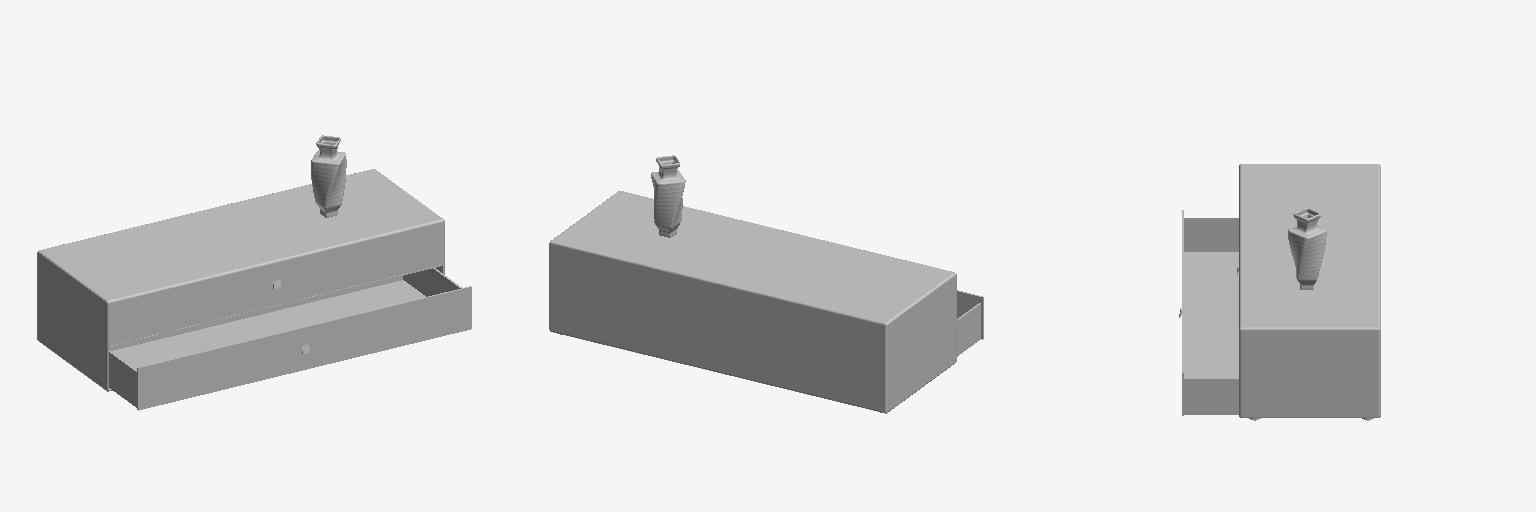
Rendered from Dresser.obj.
3 renders of one model, left to right at view 1: azimuth 30°, elevation 25°; view 2: azimuth 150°, elevation 25°; view 3: azimuth 270°, elevation 25°, orthographic.
Visible parts, largest first — view 1: Body1, Face, Face1, Body, Vase; view 2: Body1, Vase, Body, Face; view 3: Body1, Body, Vase.
Part boxes in pixels (bbox=[...]): Body1: bbox=[37, 169, 444, 391]; Face: bbox=[137, 286, 471, 410]; Face1: bbox=[109, 222, 442, 345]; Body: bbox=[109, 268, 461, 407]; Vase: bbox=[311, 135, 346, 217]; Body1: bbox=[549, 191, 956, 413]; Vase: bbox=[651, 155, 685, 237]; Body: bbox=[957, 303, 980, 356]; Face: bbox=[957, 290, 983, 339]; Body1: bbox=[1239, 164, 1380, 417]; Body: bbox=[1184, 218, 1238, 414]; Vase: bbox=[1288, 208, 1326, 289].
Bounding box in the file's own units: 130 × 62.13 × 66.89.